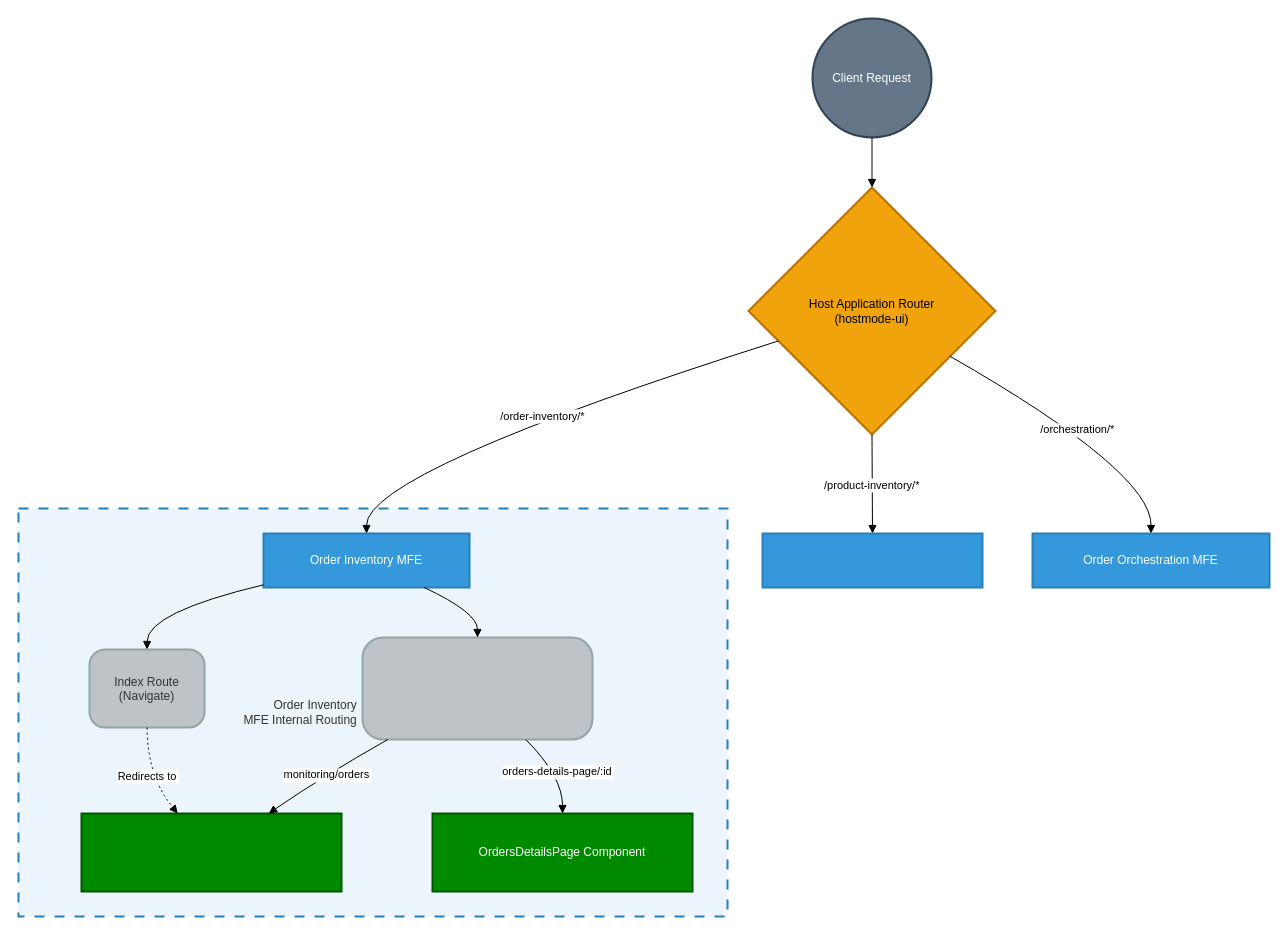
This 1287x934 diagram has some shape labels left out. The centre of each missing label's shape, as x and y in pixels:
LayoutWrapper (Base path: /order-inventory): [477,688]
OrdersMonitoring Component: [211,852]
Product Inventory MFE: [872,560]
